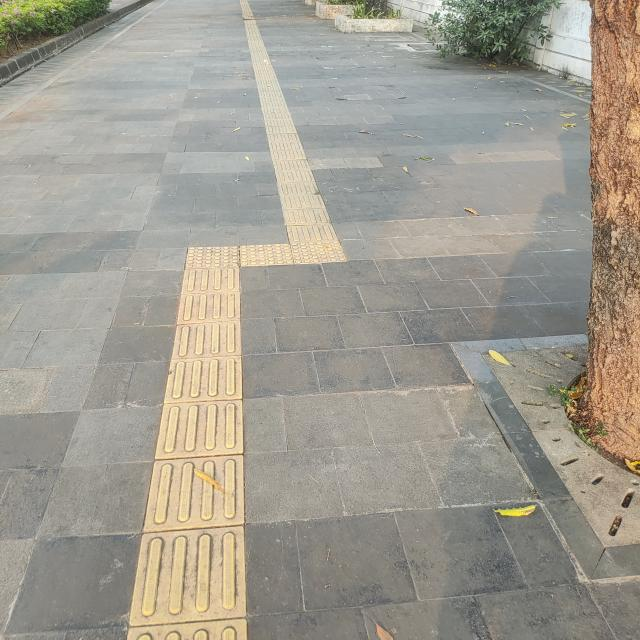lurus: (140, 275, 259, 640), (223, 22, 332, 216)
